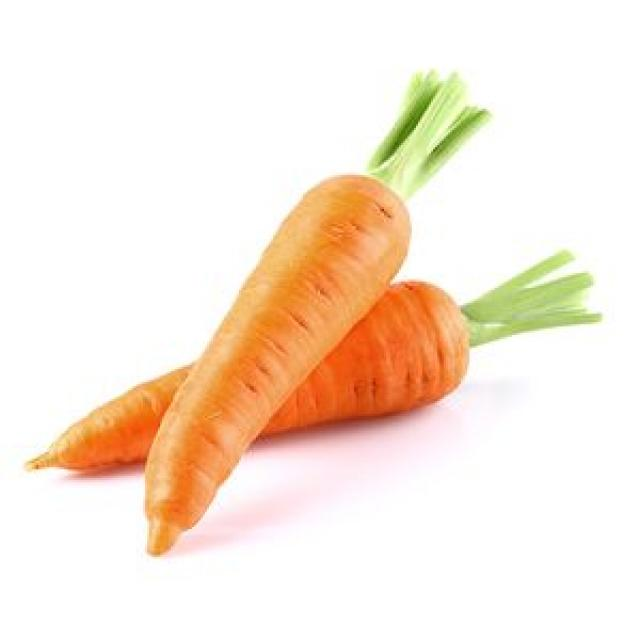Carrot: (137, 68, 496, 552), (16, 242, 616, 477)
